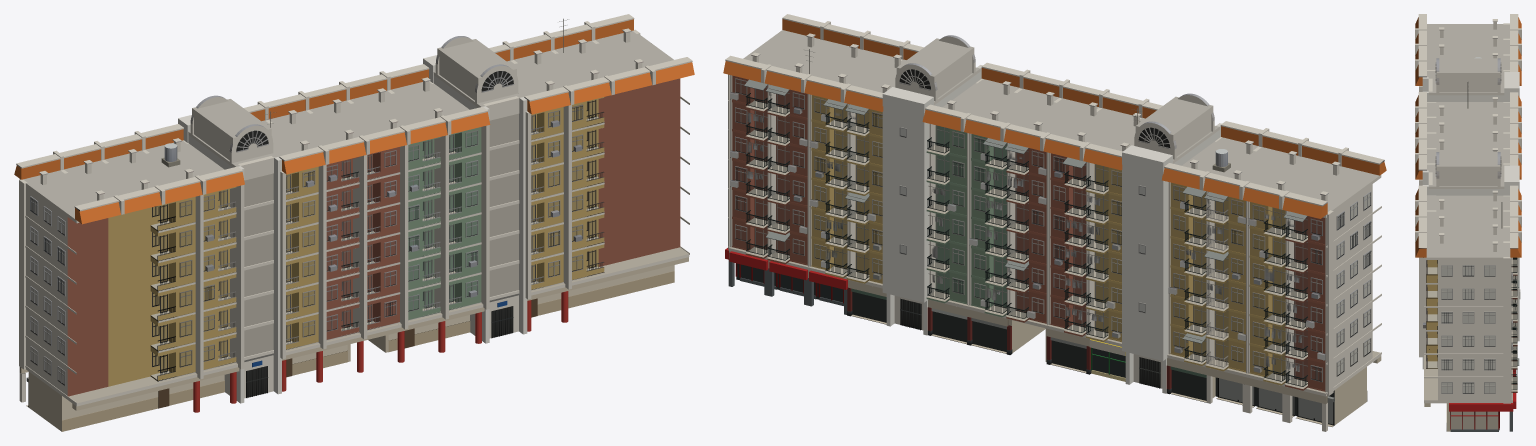
Rendered from SM_Estate_FRONT.glb.
3 views of the same model, side by side, from view 1: azimuth 30°, elevation 25°; view 2: azimuth 150°, elevation 25°; view 3: azimuth 270°, elevation 25° (orthographic). The views are drawn at different scales.
Visible parts, largest first — view 1: SM_Estate_FRONT_LM, SM_Estate_FRONT_VC, SM_Estate_FRONT_NB; view 2: SM_Estate_FRONT_LM, SM_Estate_FRONT_VC, SM_Estate_FRONT_NB; view 3: SM_Estate_FRONT_LM, SM_Estate_FRONT_VC, SM_Estate_FRONT_NB.
Boxes of the visible parts, bbox=[...] form: SM_Estate_FRONT_LM: bbox=[14, 14, 694, 431]; SM_Estate_FRONT_VC: bbox=[16, 18, 689, 408]; SM_Estate_FRONT_NB: bbox=[31, 102, 594, 382]; SM_Estate_FRONT_LM: bbox=[723, 14, 1386, 431]; SM_Estate_FRONT_VC: bbox=[728, 35, 1384, 426]; SM_Estate_FRONT_NB: bbox=[736, 80, 1369, 380]; SM_Estate_FRONT_LM: bbox=[1415, 14, 1521, 431]; SM_Estate_FRONT_VC: bbox=[1418, 21, 1520, 431]; SM_Estate_FRONT_NB: bbox=[1442, 266, 1497, 428].
Size of the model in its own units: 62.54 by 25.7 by 11.96.
